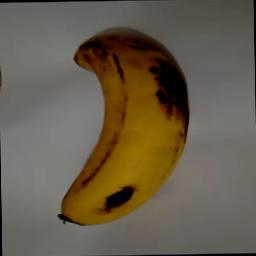Banana Unripe: (58, 36, 192, 225)
